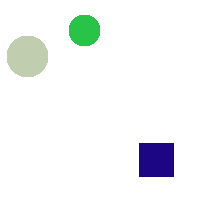circle: (7, 36, 47, 76), (69, 15, 99, 45)
rectangle: (139, 143, 173, 176)
